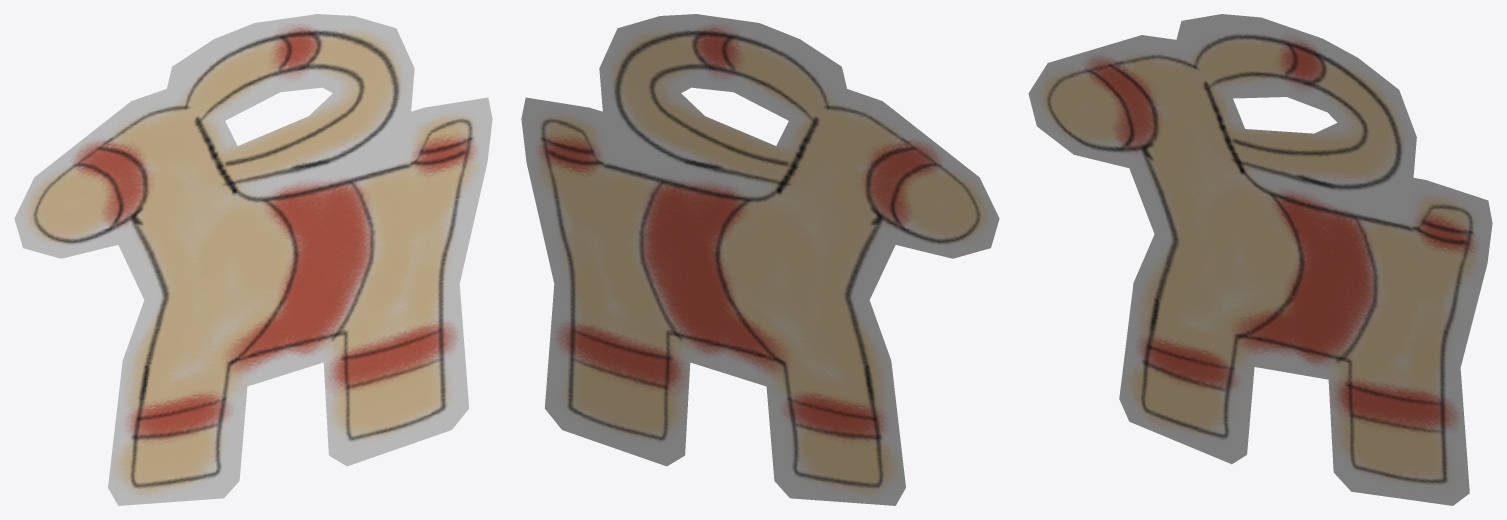
Rendered from Bock.fbx.
The picture shows the model from 3 angles, left to right: view 1: azimuth 30°, elevation 25°; view 2: azimuth 150°, elevation 25°; view 3: azimuth 330°, elevation 25°; orthographic projection. The views are drawn at different scales.
Parts seen in each view (by area): view 1: Bock; view 2: Bock; view 3: Bock.
Boxes of the visible parts, bbox=[...] form: Bock: bbox=[14, 14, 492, 505]; Bock: bbox=[521, 14, 999, 505]; Bock: bbox=[1028, 14, 1492, 505].
Bounding box in the file's own units: 27.26 × 25.48 × 4.15e-06.
1 material, 1 textured.
